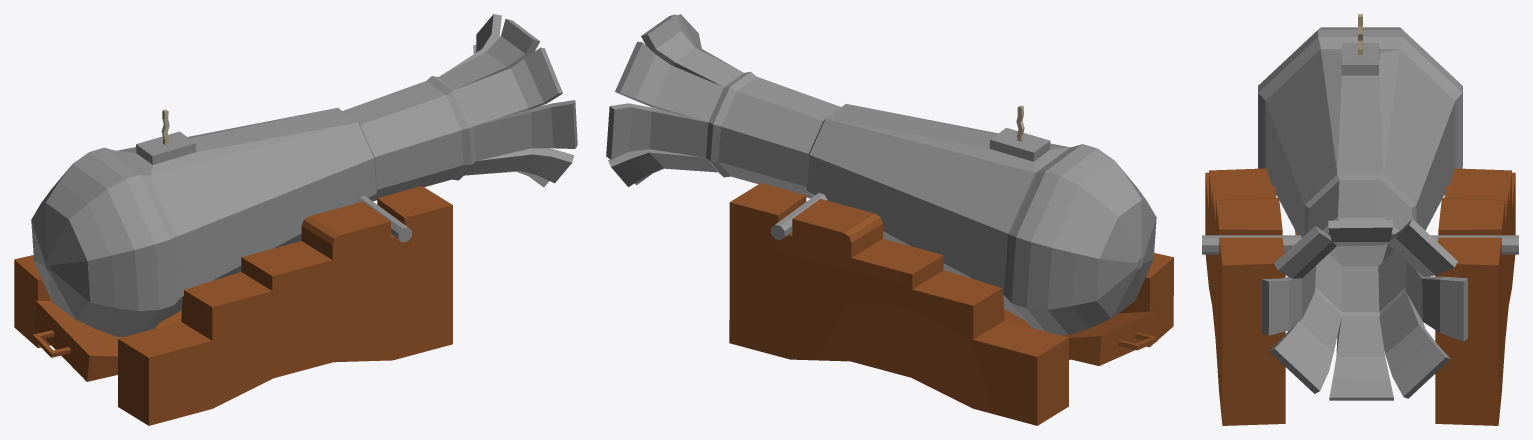
Rendered from BrokenPirateCannon.fbx.
3 views of the same model, side by side, from view 1: azimuth 30°, elevation 25°; view 2: azimuth 150°, elevation 25°; view 3: azimuth 270°, elevation 25° (orthographic). The views are drawn at different scales.
Parts seen in each view (by area): view 1: Cube.001; view 2: Cube.001; view 3: Cube.001.
Part boxes in pixels (x1,y1,x2,y2): Cube.001: (14,14,577,425); Cube.001: (606,14,1173,425); Cube.001: (1202,14,1518,425).
Size of the model in its own units: 1313 by 627 by 619.
